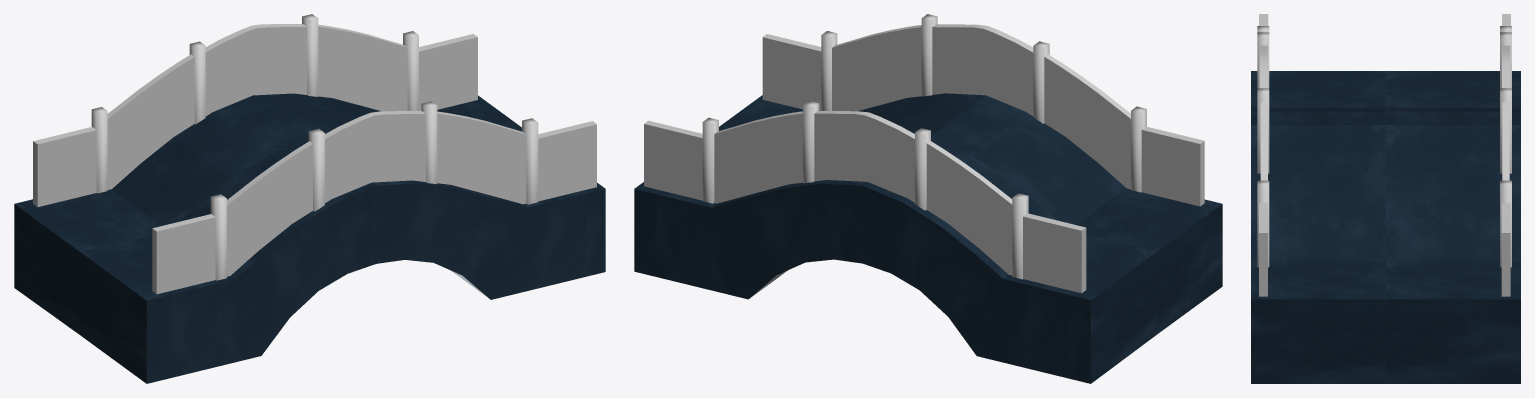
The model's file is bridge dark.fbx.
3 views of the same model, side by side, from view 1: azimuth 30°, elevation 25°; view 2: azimuth 150°, elevation 25°; view 3: azimuth 270°, elevation 25° (orthographic). The views are drawn at different scales.
Visible parts, largest first — view 1: Plane176; view 2: Plane176; view 3: Plane176.
Boxes of the visible parts, x1,y1,x2,y2 form: Plane176: [14, 14, 605, 383]; Plane176: [634, 14, 1222, 383]; Plane176: [1251, 14, 1520, 383].
Size of the model in its own units: 157 by 68.73 by 78.74.
